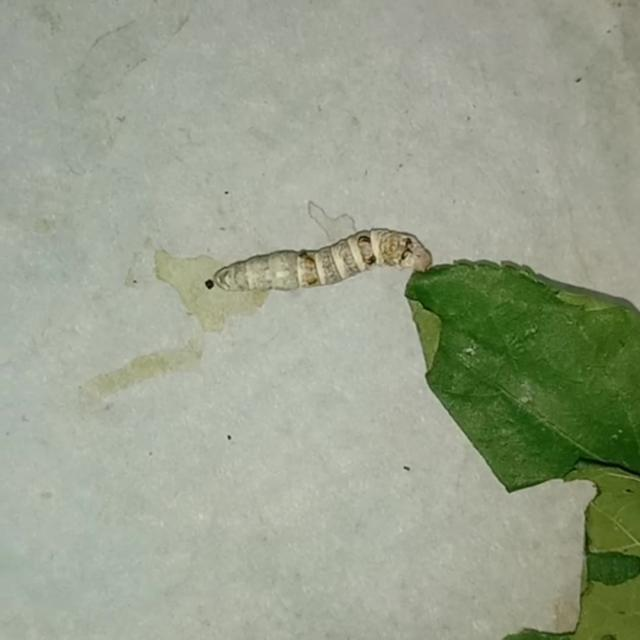Grasserie: (207, 209, 443, 309)
